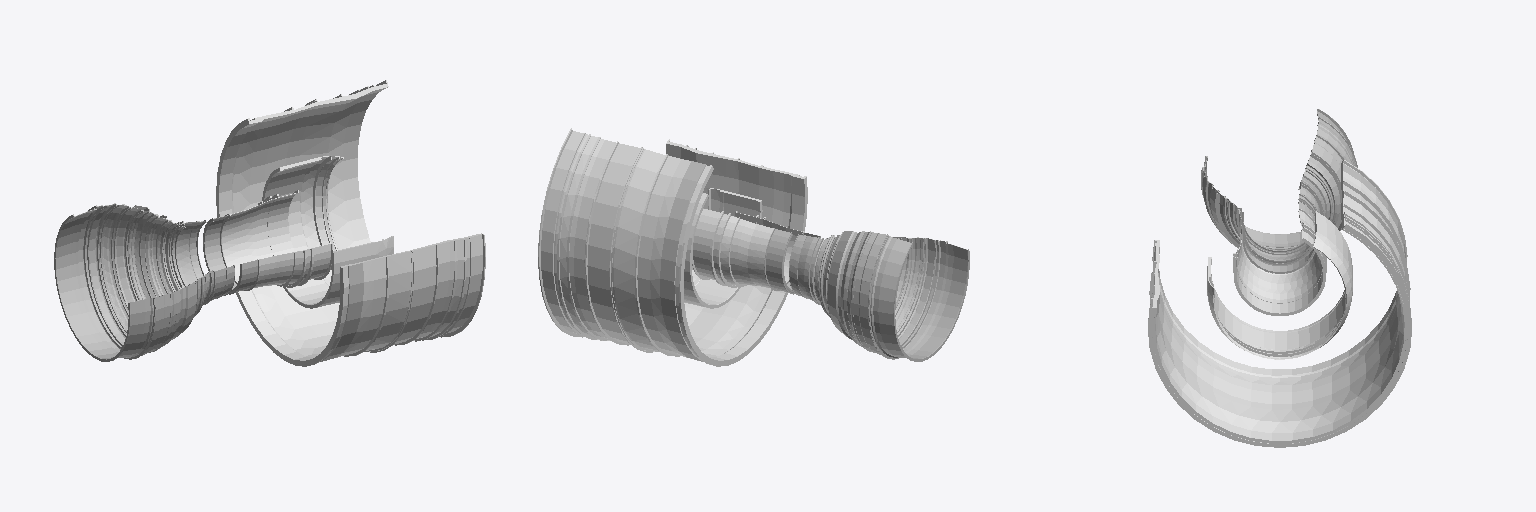
File: casing.obj
The picture shows the model from 3 angles: view 1: azimuth 30°, elevation 25°; view 2: azimuth 150°, elevation 25°; view 3: azimuth 270°, elevation 25°; orthographic projection.
Visible parts, largest first — view 1: Casing, Casing-8, Casing-2, Casing-3, Casing-9, Casing-5, Casing-4, Casing-1; view 2: Casing, Casing-8, Casing-9, Casing-3, Casing-2, Casing-1, Casing-4, Casing-5; view 3: Casing, Casing-2, Casing-3, Casing-8, Casing-5, Casing-9, Casing-4.
Part boxes in pixels (x1,y1,x2,y2): Casing: (216, 80, 485, 366); Casing-8: (78, 203, 215, 359); Casing-2: (262, 156, 393, 308); Casing-3: (222, 190, 332, 287); Casing-9: (54, 206, 154, 361); Casing-5: (172, 220, 234, 300); Casing-4: (203, 213, 259, 294); Casing-1: (321, 263, 363, 361); Casing: (538, 128, 807, 366); Casing-8: (808, 231, 946, 359); Casing-9: (869, 235, 969, 361); Casing-3: (692, 208, 803, 287); Casing-2: (684, 188, 762, 308); Casing-1: (660, 161, 705, 361); Casing-4: (764, 228, 820, 294); Casing-5: (789, 234, 827, 300); Casing: (1148, 160, 1411, 447); Casing-2: (1207, 211, 1352, 359); Casing-3: (1233, 209, 1326, 315); Casing-8: (1201, 118, 1357, 250); Casing-5: (1237, 184, 1322, 263); Casing-9: (1204, 109, 1353, 248); Casing-4: (1240, 201, 1314, 273).
Size of the model in its own units: 3815 by 2490 by 2669.